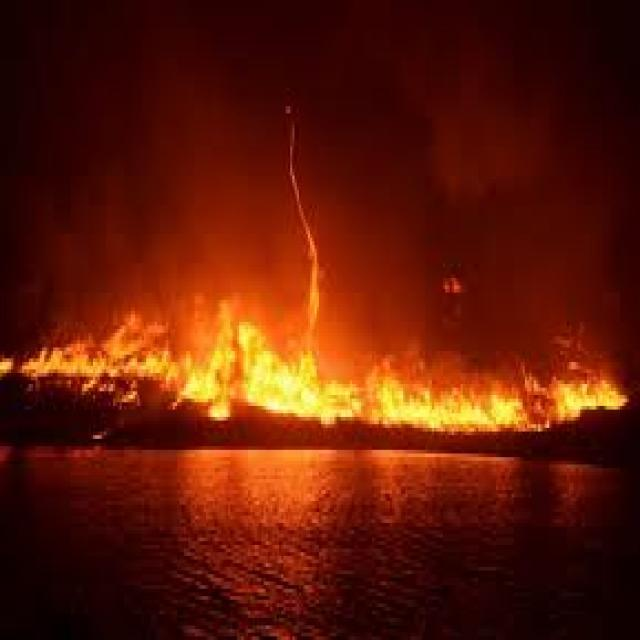Fire: (0, 302, 640, 446)
